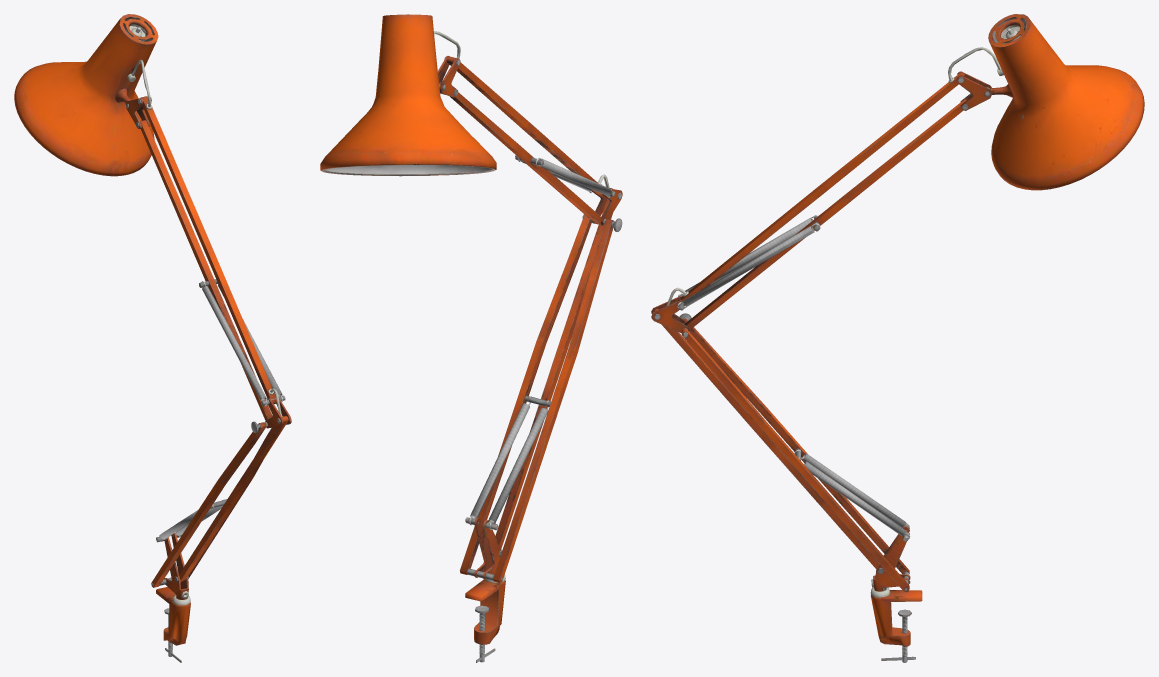
File: desk_lamp_arm_01.glb
3 renders of one model, left to right at view 1: azimuth 30°, elevation 25°; view 2: azimuth 150°, elevation 25°; view 3: azimuth 270°, elevation 25°, orthographic. The views are drawn at different scales.
Visible parts, largest first — view 1: desk_lamp_arm_01; view 2: desk_lamp_arm_01; view 3: desk_lamp_arm_01.
Boxes of the visible parts, x1,y1,x2,y2 form: desk_lamp_arm_01: [14, 14, 291, 662]; desk_lamp_arm_01: [320, 14, 622, 662]; desk_lamp_arm_01: [651, 14, 1144, 662].
Size of the model in its own units: 0.2017 by 0.8926 by 0.6139.
2 materials, 2 textured.
